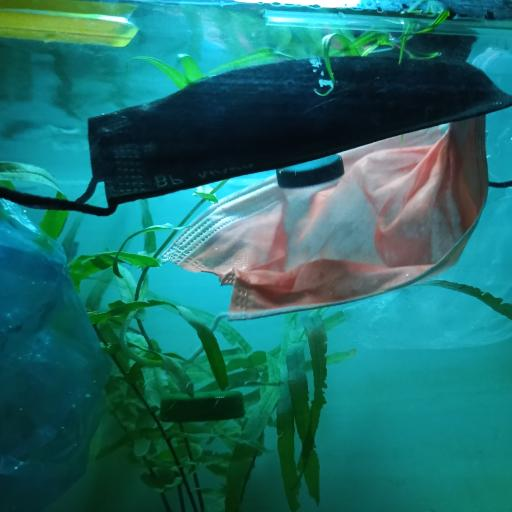bottle_cap: (159, 390, 244, 422), (277, 155, 345, 189)
mask: (0, 47, 512, 217), (148, 118, 490, 320)
plastic_bag: (0, 197, 114, 512)
plastic_straw: (265, 8, 512, 38), (0, 7, 139, 50)
